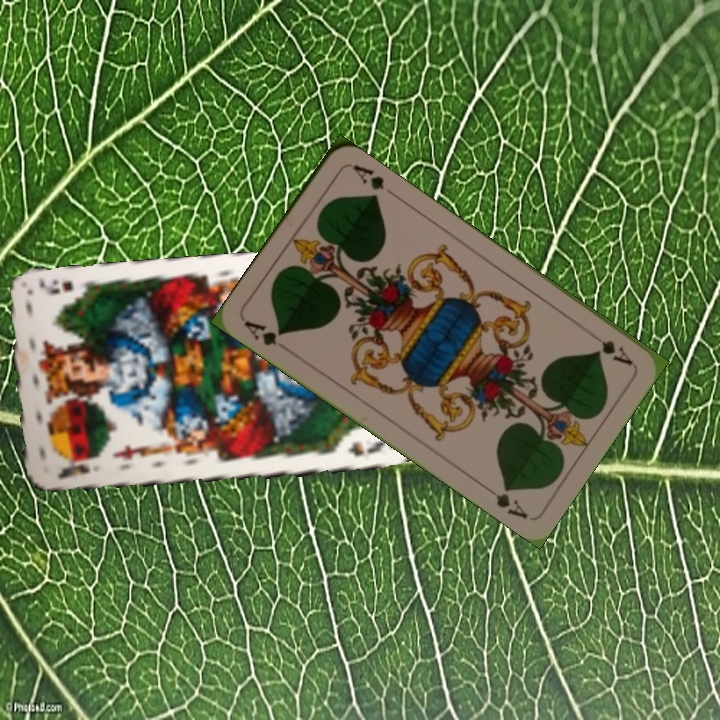GA: (239, 316, 288, 349), (594, 335, 635, 369)
SK: (53, 459, 92, 482)
